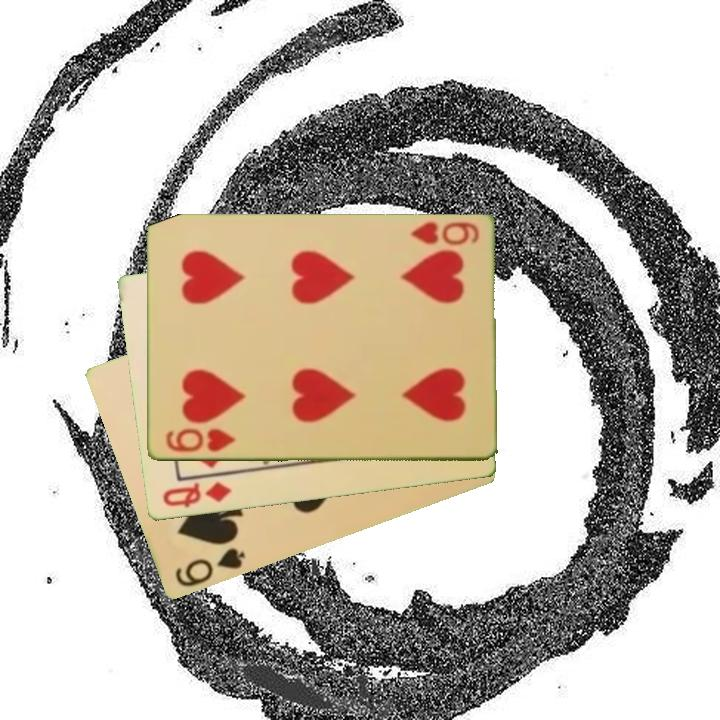6h: (406, 218, 481, 249), (162, 426, 238, 456)
6s: (171, 545, 248, 590)
Qd: (159, 479, 235, 512)
